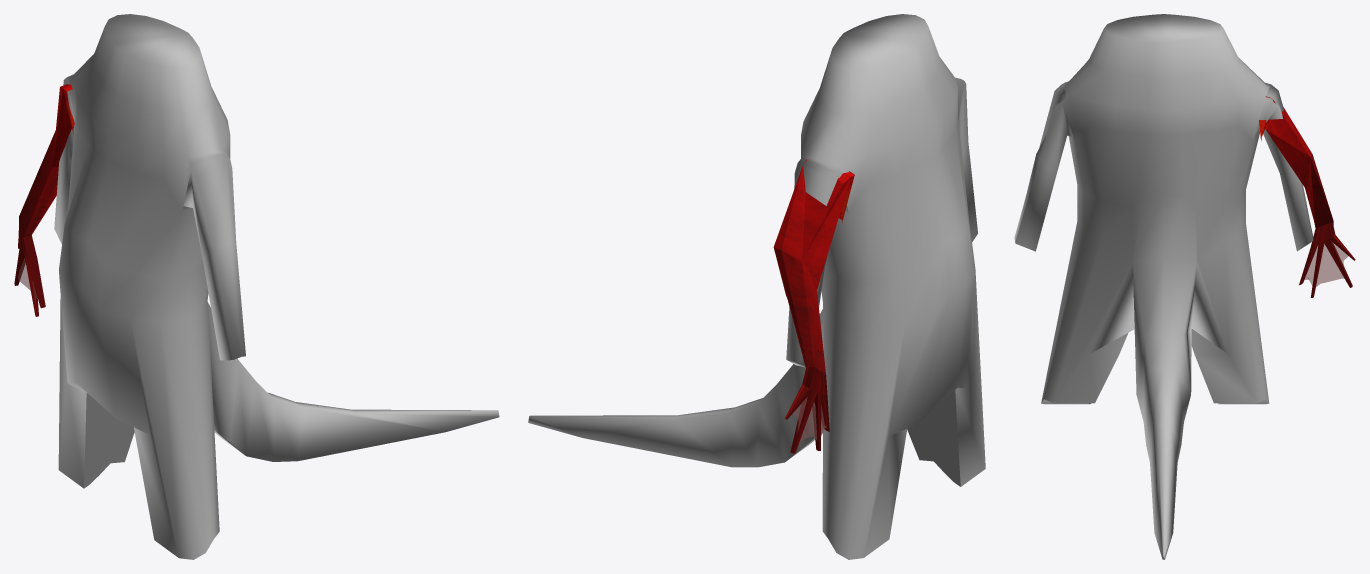
File: arm.fbx
The picture shows the model from 3 angles, left to right: view 1: azimuth 30°, elevation 25°; view 2: azimuth 150°, elevation 25°; view 3: azimuth 270°, elevation 25°; orthographic projection. The views are drawn at different scales.
Visible parts, largest first — view 1: pCylinder33, polySurface2; view 2: pCylinder33, polySurface2, pPlane1; view 3: pCylinder33, polySurface2, pPlane1.
Boxes of the visible parts, x1=… form: pCylinder33: x1=54, y1=14, x2=499, y2=559; polySurface2: x1=14, y1=84, x2=74, y2=316; pCylinder33: x1=528, y1=14, x2=985, y2=559; polySurface2: x1=773, y1=159, x2=854, y2=453; pPlane1: x1=793, y1=397, x2=826, y2=441; pCylinder33: x1=1014, y1=14, x2=1313, y2=559; polySurface2: x1=1259, y1=96, x2=1355, y2=297; pPlane1: x1=1304, y1=242, x2=1348, y2=286.
Size of the model in its own units: 4.13 by 4.2 by 3.34.
